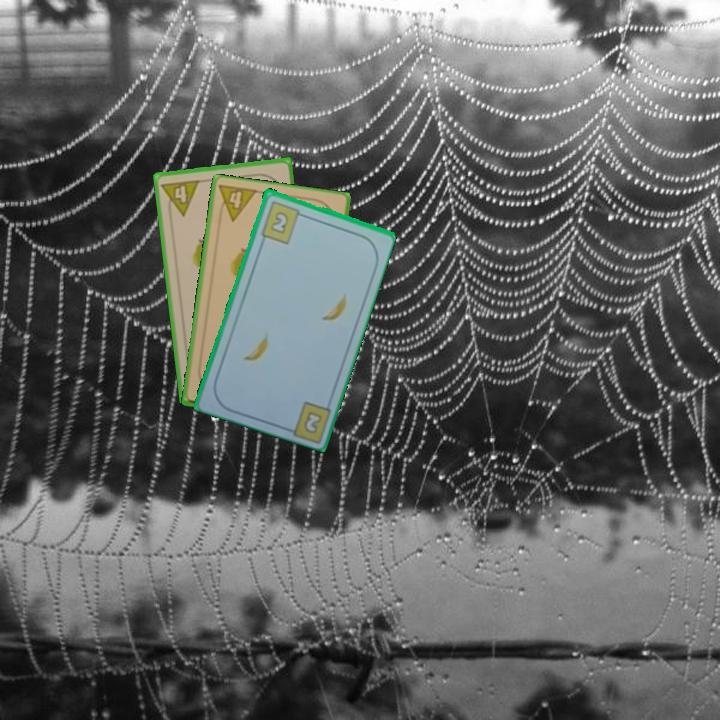2b: (257, 197, 308, 246), (300, 407, 325, 436)
4p: (158, 176, 202, 220), (214, 182, 260, 224)
